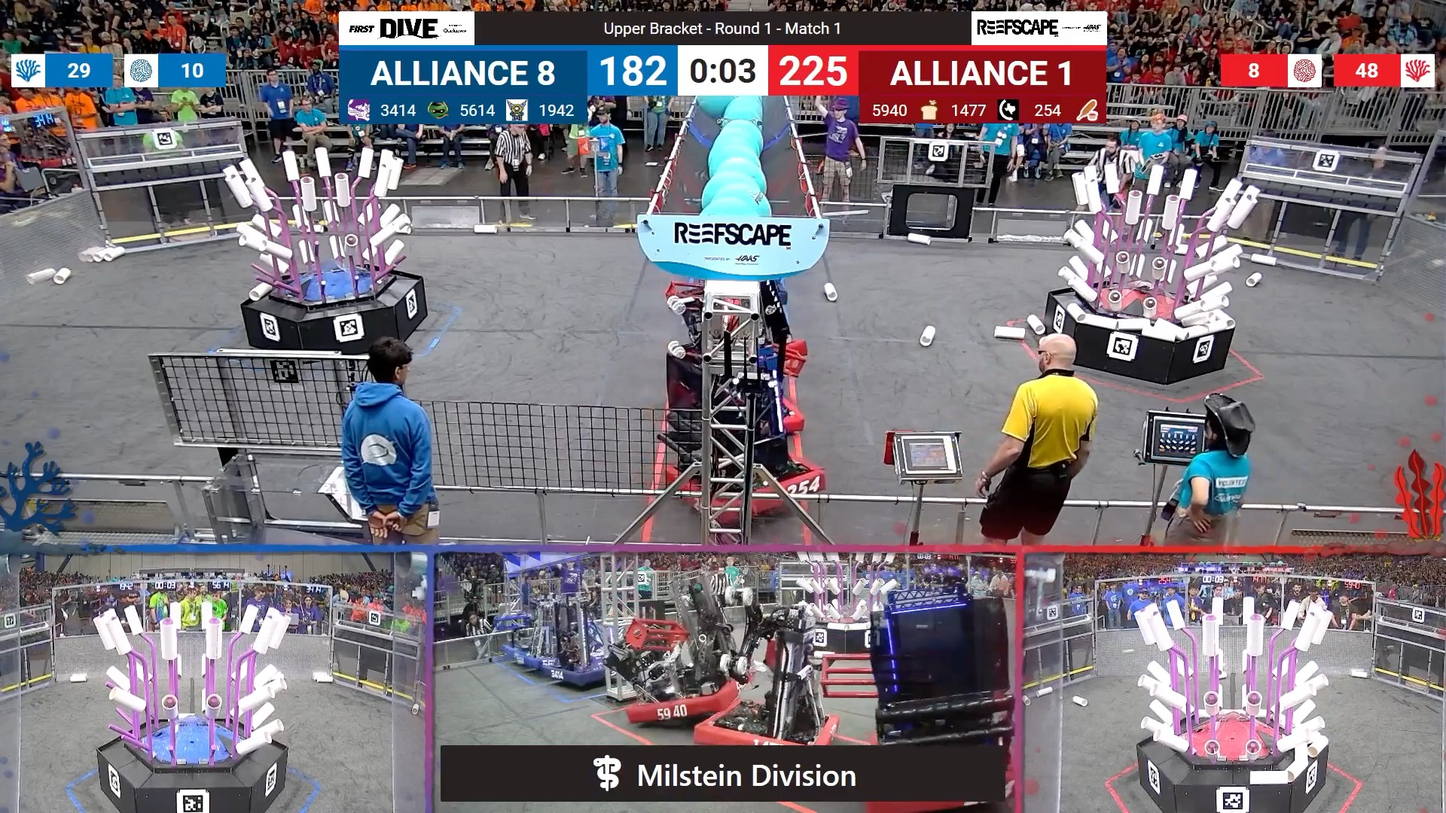bumpers: (655, 447, 826, 524), (692, 709, 844, 750), (629, 677, 746, 718), (528, 658, 624, 686), (507, 652, 570, 671)
